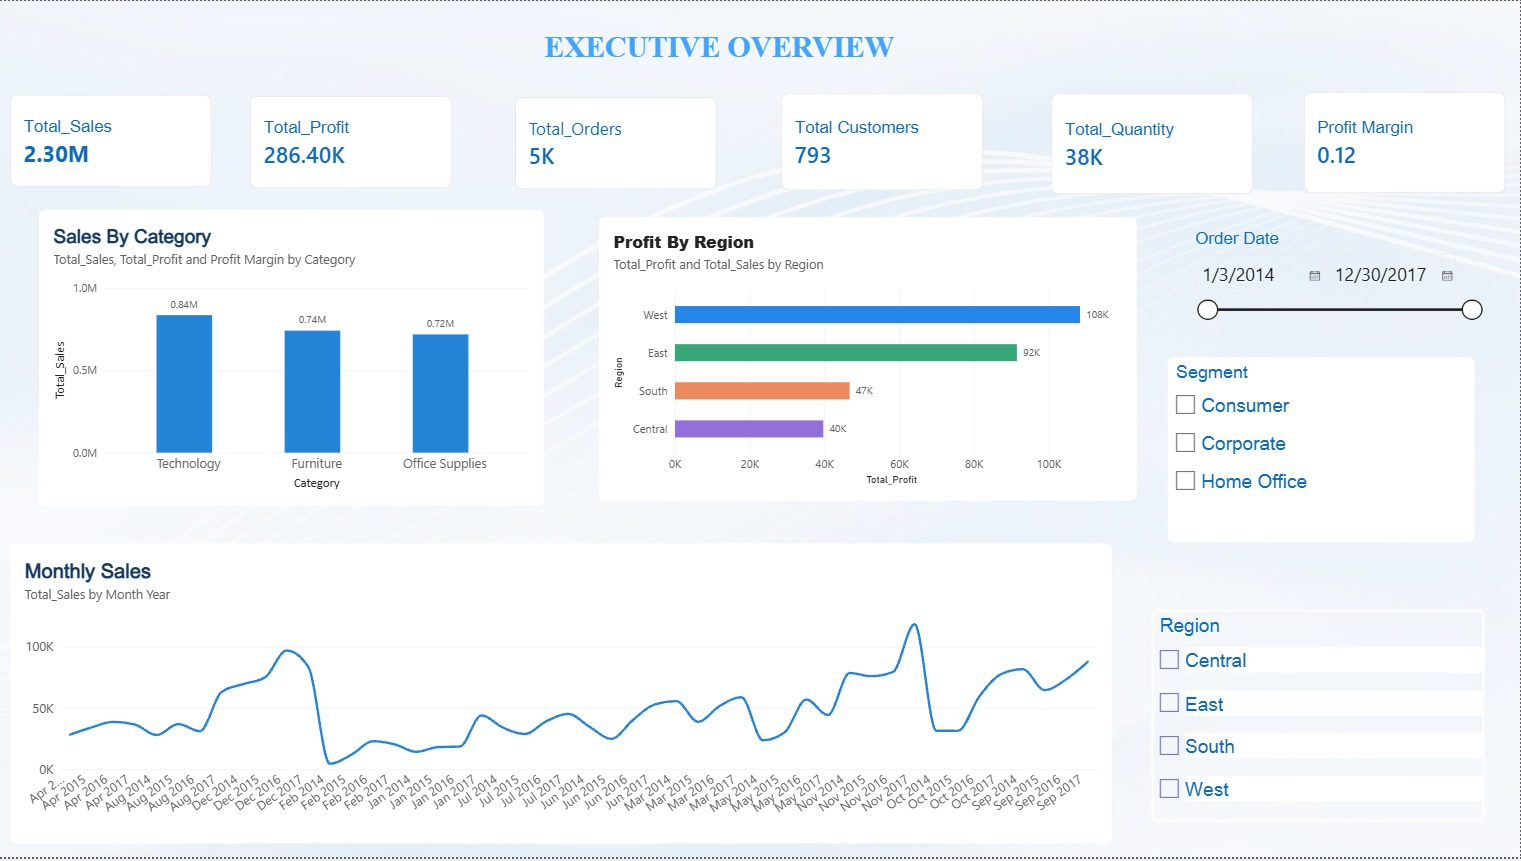

Layout of this report page (visuals, bound fields, positions):
{"tool":"powerbi","page":{"name":" Executive Overview","canvas":[1920,1080],"ordinal":0},"visuals":[{"type":"textbox","box":[430.2,37,806.9,49.4],"z":0},{"type":"cardVisual","fields":{"Data":["Sample - Superstore.Total_Sales"]},"box":[14,118.6,254.7,116.9],"z":1000},{"type":"cardVisual","title":"Total Profit","fields":{"Data":["Sample - Superstore.Total_Profit"]},"box":[317.4,120.3,254.7,116.9],"z":2000},{"type":"cardVisual","title":"Total Orders","fields":{"Data":["Sample - Superstore.Total_Orders"]},"box":[650.6,122.1,254.7,116.9],"z":3000},{"type":"cardVisual","title":"Total Customers","fields":{"Data":["Sample - Superstore.Total Customers"]},"box":[987.2,116.9,254.7,122.1],"z":4000},{"type":"cardVisual","title":"Total Quantity","fields":{"Data":["Sample - Superstore.Total_Quantity"]},"box":[1327.3,116.9,254.7,127.3],"z":5000},{"type":"cardVisual","title":"Profit Margin","fields":{"Data":["Sample - Superstore.Profit Margin"]},"box":[1646.5,115.1,254.7,127.3],"z":6000},{"type":"lineChart","title":"Monthly Sales","fields":{"Category":["Sample - Superstore.Month Year"],"Y":["Sample - Superstore.Total_Sales"]},"box":[14,683.7,1390.1,378.5],"z":7000},{"type":"clusteredColumnChart","title":"Sales By Category","fields":{"Category":["Sample - Superstore.Category"],"Y":["Sample - Superstore.Total_Sales"]},"box":[50.6,263.4,636.6,373.3],"z":8000},{"type":"clusteredBarChart","title":"Profit By Region","fields":{"Category":["Sample - Superstore.Region"],"Y":["Sample - Superstore.Total_Profit"]},"box":[757,272.1,678.5,357.6],"z":9000},{"type":"slicer","title":"Region","fields":{"Values":["Sample - Superstore.Region"]},"box":[1454.7,767.4,420.4,266.9],"z":11000},{"type":"slicer","title":"Segment","fields":{"Values":["Sample - Superstore.Segment"]},"box":[1473.8,450,387.2,233.7],"z":12000},{"type":"slicer","fields":{"Values":["Sample - Superstore.Order Date"]},"box":[1501.7,284.3,373,150],"z":17001}]}

Visuals, with their boxes in screenshot pixels (x1, y1, x2, y2), scaled from the page's 1920x1080 canvas onto the 1521x861 screenshot:
textbox: bbox(341, 29, 980, 69)
cardVisual - Sample - Superstore.Total_Sales: bbox(11, 95, 213, 188)
"Total Profit" cardVisual: bbox(251, 96, 453, 189)
"Total Orders" cardVisual: bbox(515, 97, 717, 191)
"Total Customers" cardVisual: bbox(782, 93, 984, 191)
"Total Quantity" cardVisual: bbox(1051, 93, 1253, 195)
"Profit Margin" cardVisual: bbox(1304, 92, 1506, 193)
"Monthly Sales" lineChart: bbox(11, 545, 1112, 847)
"Sales By Category" clusteredColumnChart: bbox(40, 210, 544, 508)
"Profit By Region" clusteredBarChart: bbox(600, 217, 1137, 502)
"Region" slicer: bbox(1152, 612, 1485, 825)
"Segment" slicer: bbox(1168, 359, 1474, 545)
slicer - Sample - Superstore.Order Date: bbox(1190, 227, 1485, 346)
